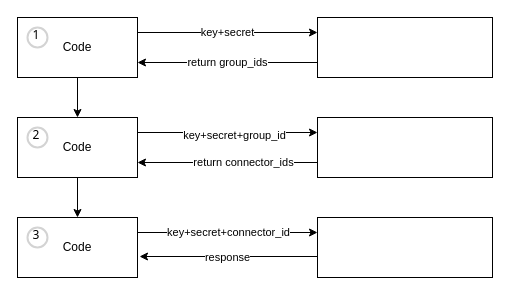
This 510x295 diagram has some shape labels left out. Each missing label, with the centre of its shape:
"List All Connectors In Group" goes at point (404, 147).
"List All Groups" goes at point (404, 47).
"Sync Connector Data" goes at point (404, 247).
